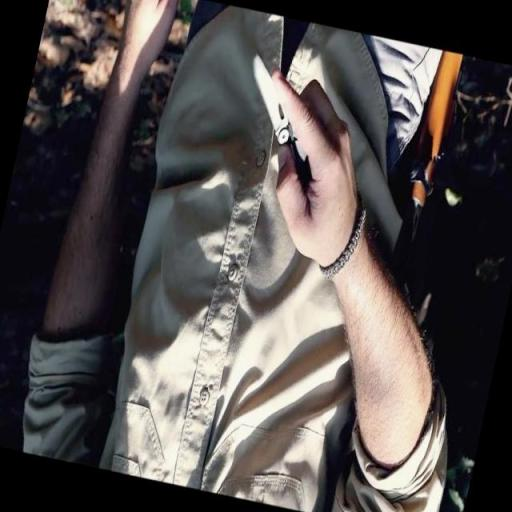knife: (224, 42, 370, 196)
